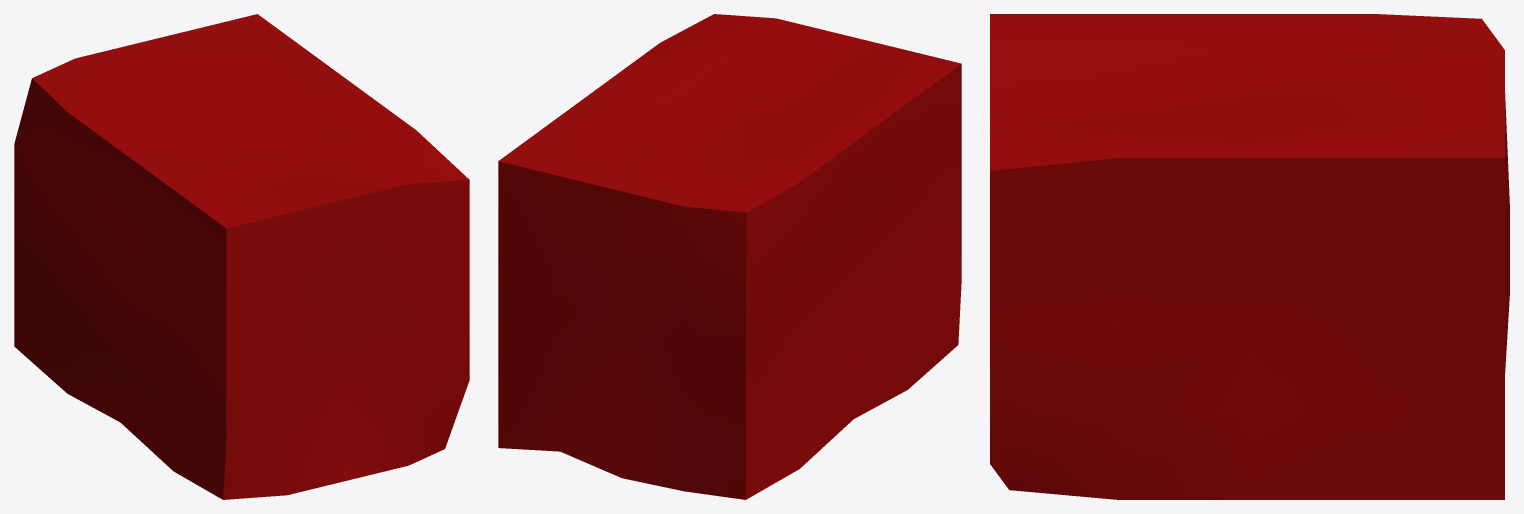
File: Paper_Box_10.FBX
3 views of the same model, side by side, from view 1: azimuth 30°, elevation 25°; view 2: azimuth 150°, elevation 25°; view 3: azimuth 270°, elevation 25° (orthographic). The views are drawn at different scales.
Parts seen in each view (by area): view 1: Paper_Box_10; view 2: Paper_Box_10; view 3: Paper_Box_10.
Part boxes in pixels (box(x1,y1,x2,y2)): Paper_Box_10: box(14, 14, 469, 499); Paper_Box_10: box(498, 14, 961, 499); Paper_Box_10: box(990, 14, 1509, 499).
Bounding box in the file's own units: 36.58 × 55.81 × 40.49.
